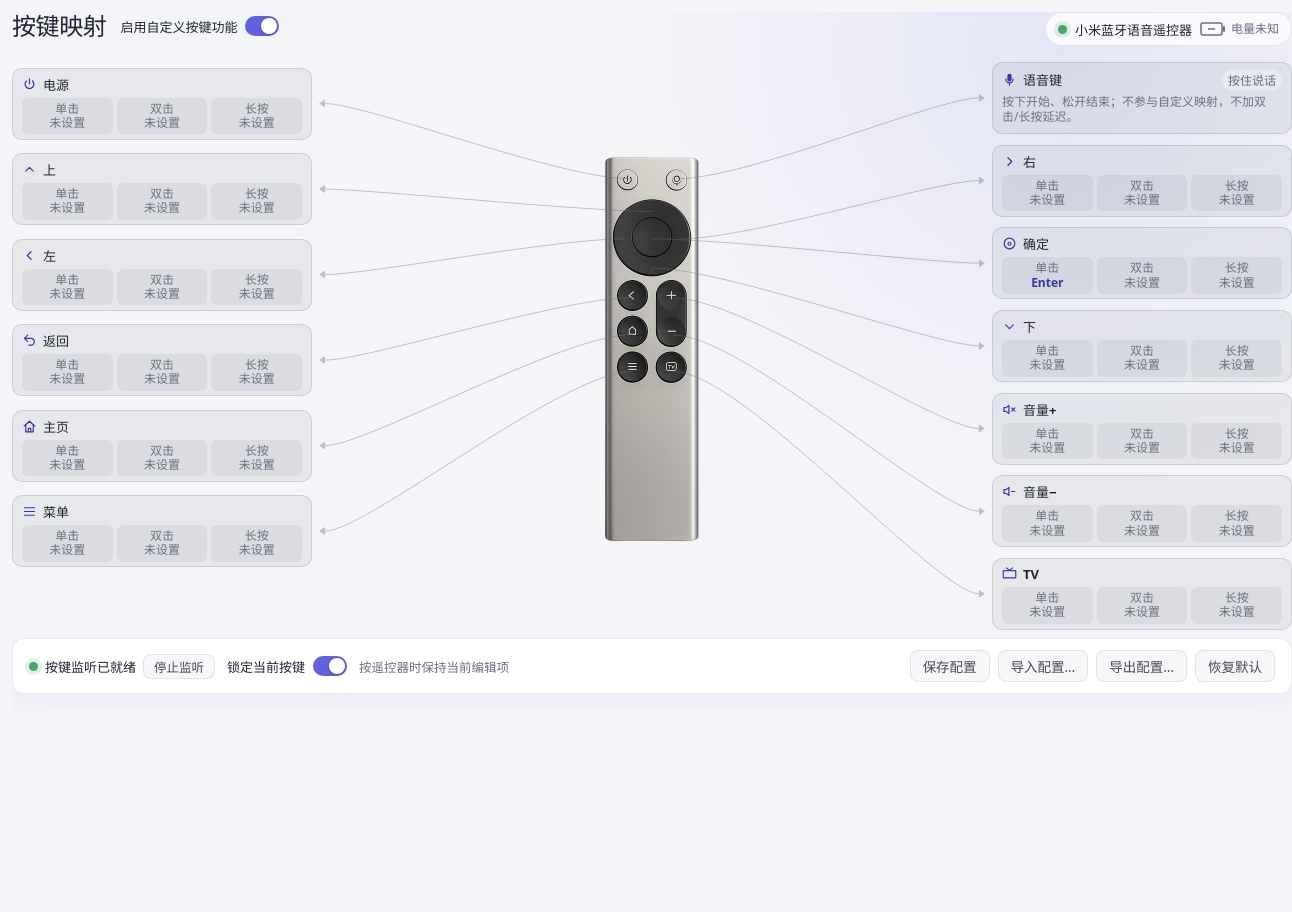
Test: buttons mapping page › saves, exports and imports a versioned mapping configuration from the footer
Click the button "保存配置": {"x": 950, "y": 666} left=910, top=650, right=990, bottom=682
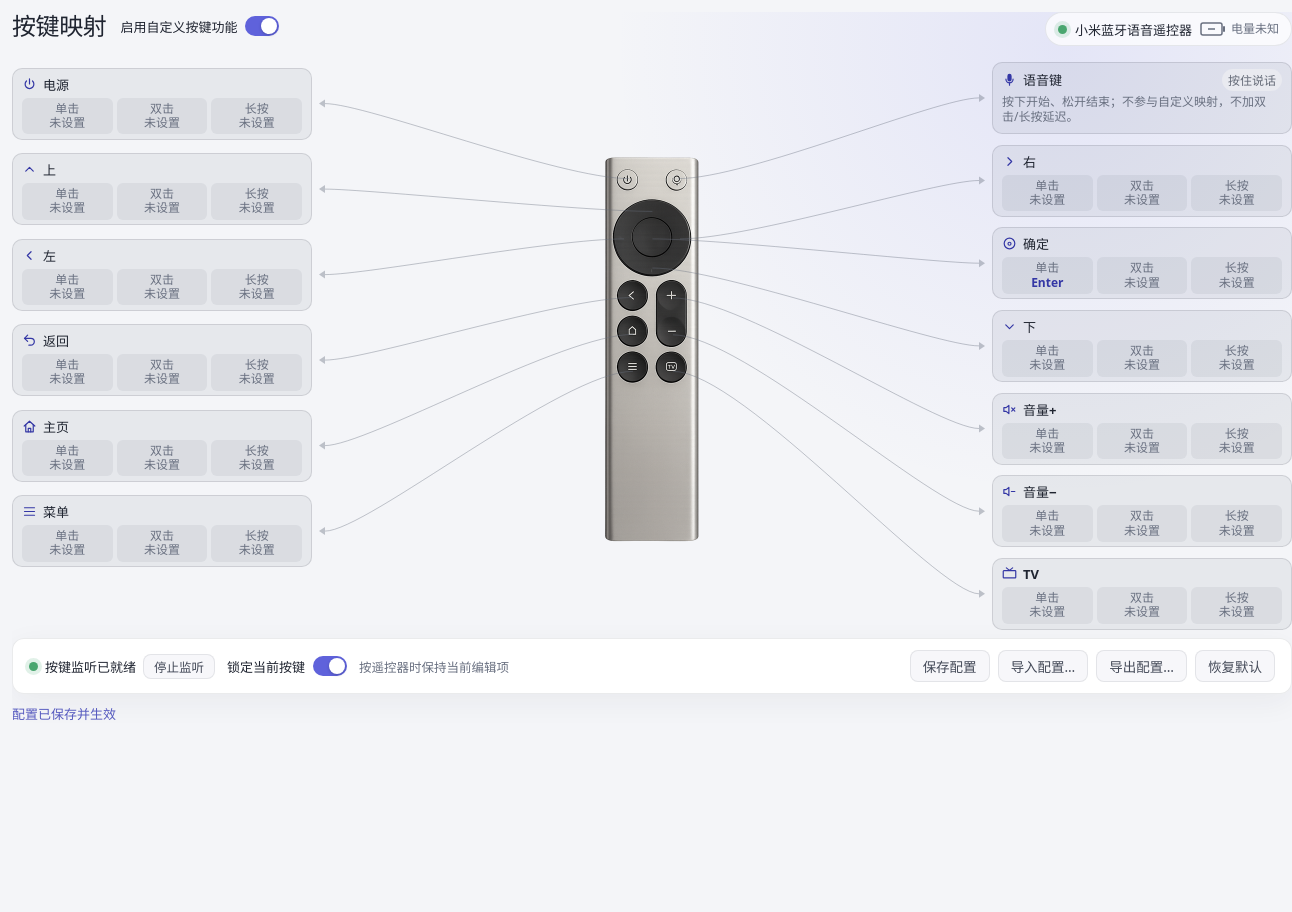
Result: the text "配置已保存并生效" is shown at left=12, top=705, right=116, bottom=723
Click the button "导出配置…": {"x": 1142, "y": 666} left=1096, top=650, right=1187, bottom=682
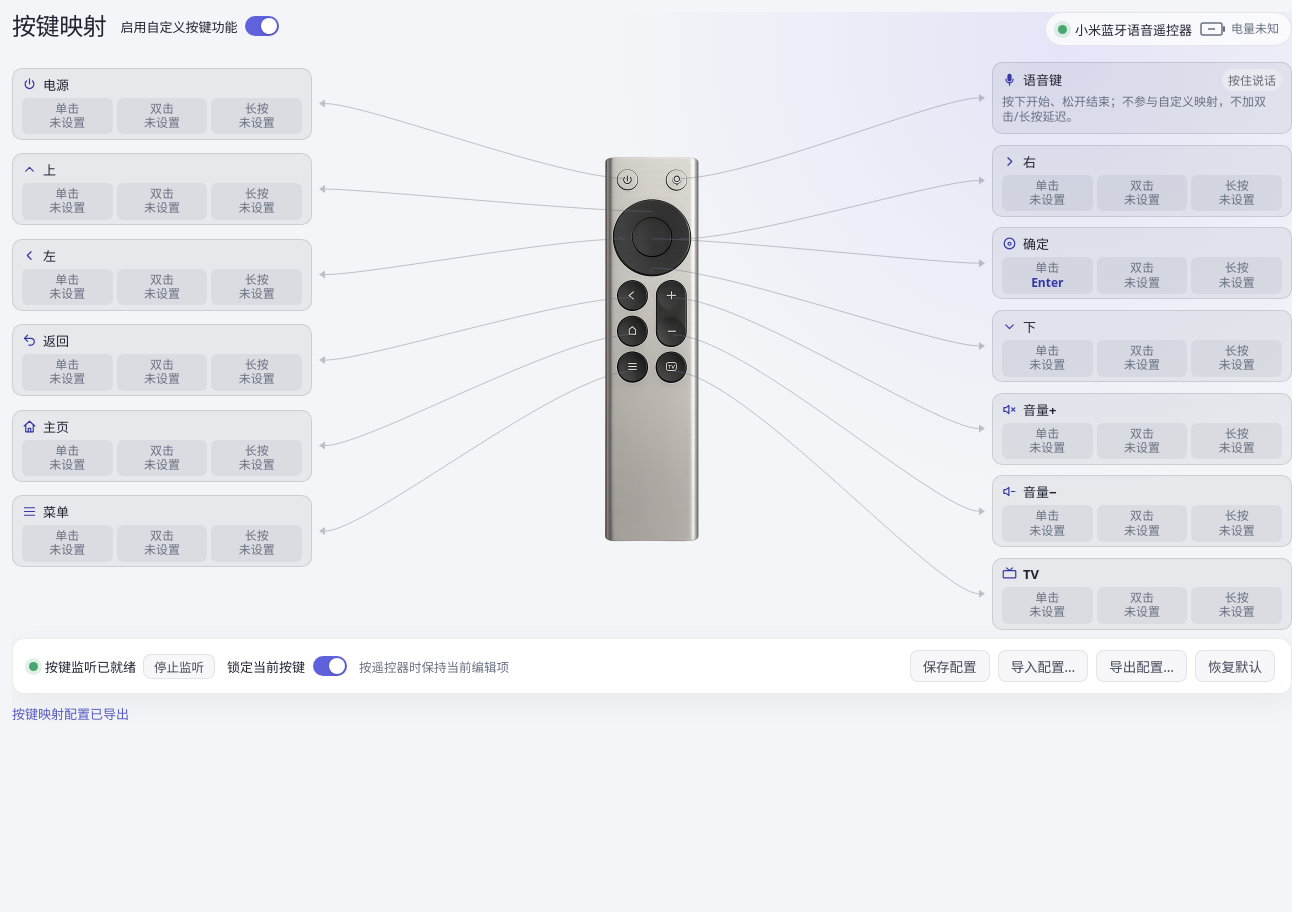
Result: the text "按键映射配置已导出" is shown at left=12, top=705, right=129, bottom=723
Click the button "导入配置…": {"x": 1043, "y": 666} left=998, top=650, right=1088, bottom=682
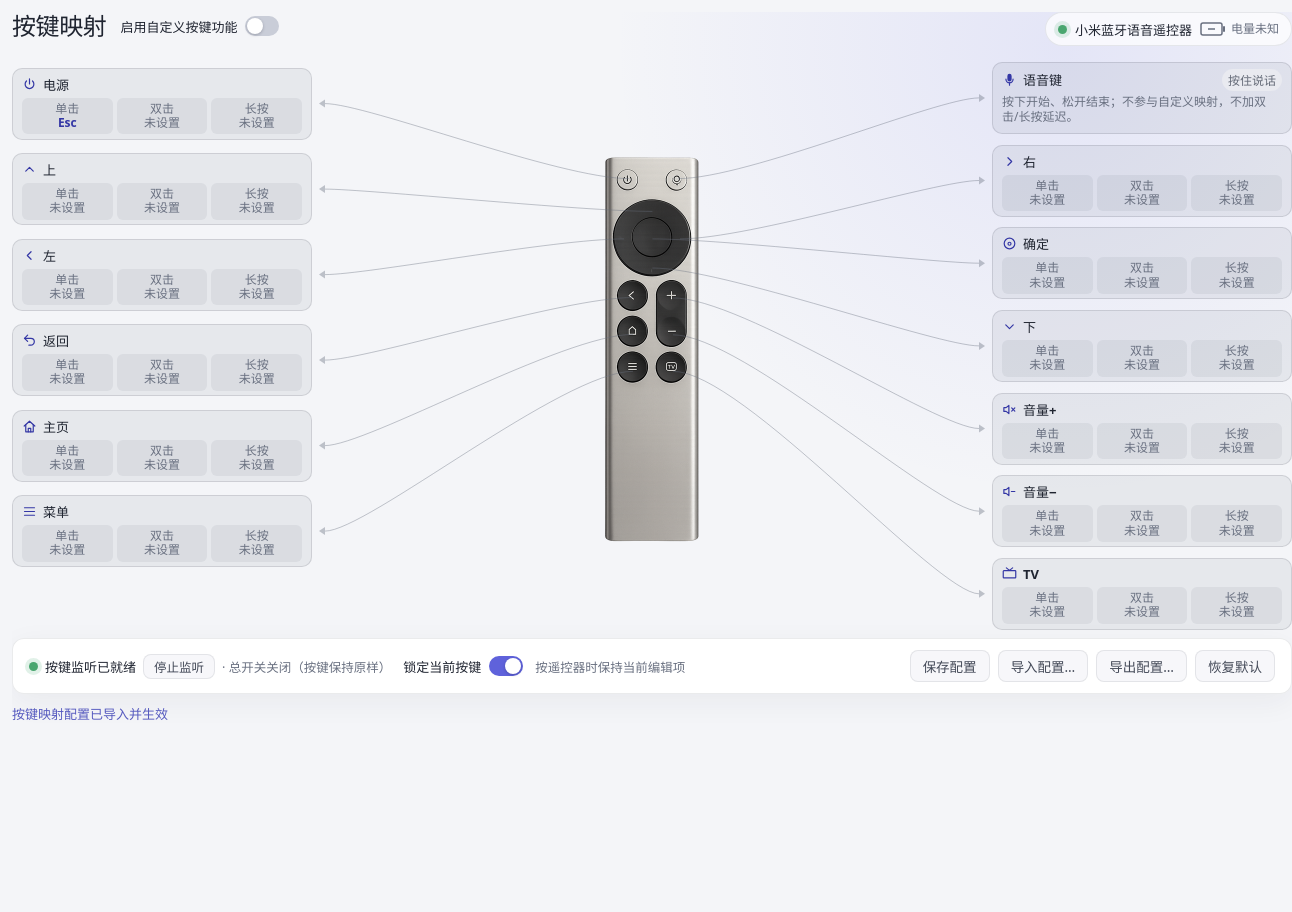
Result: the text "按键映射配置已导入并生效" is shown at left=12, top=705, right=168, bottom=723
Result: the element with class "mapping-card" shows "Esc" at left=22, top=98, right=113, bottom=134
